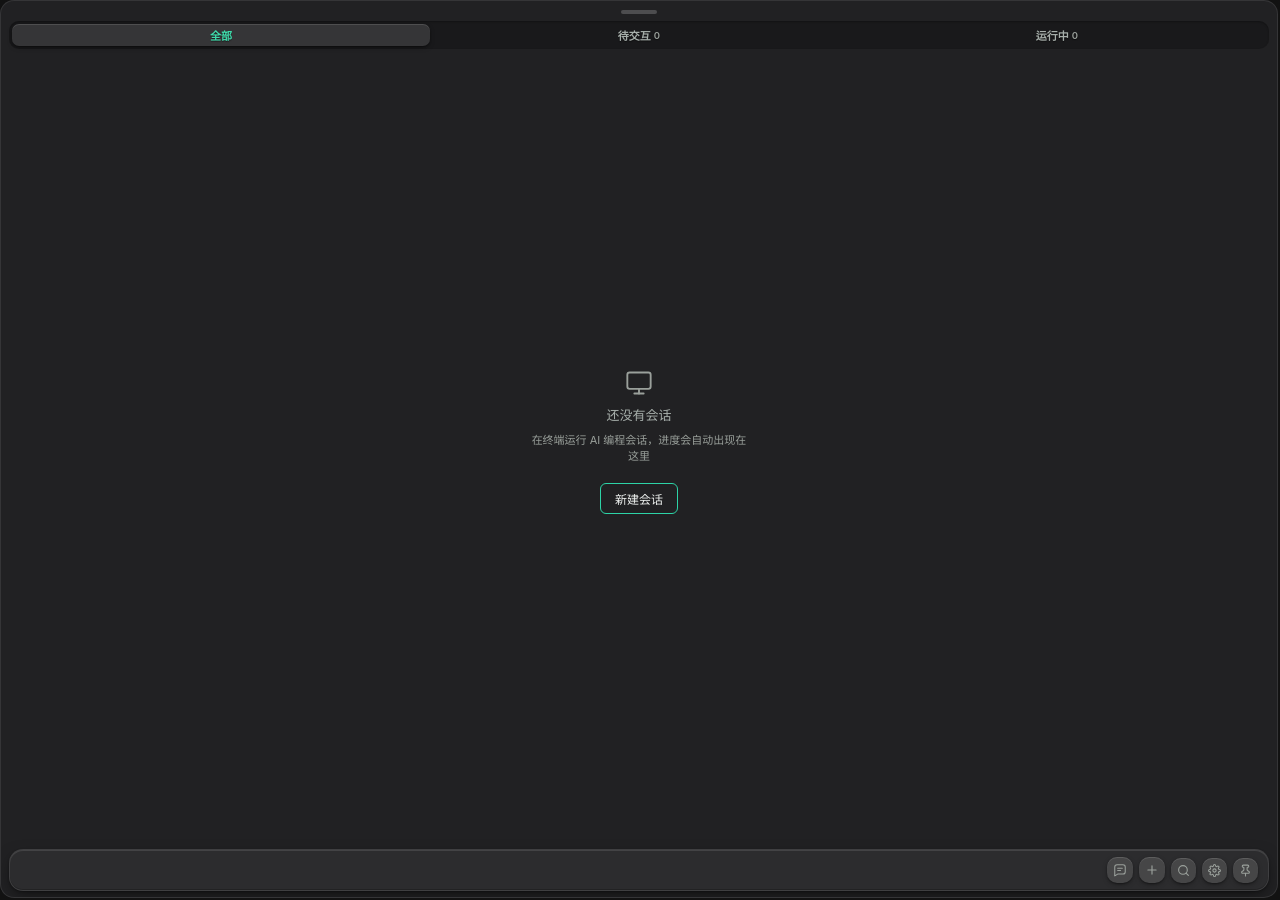
it: Sticker › 搜索有词且 0 结果：显示独立「无匹配」空态，不带「新建会话」CTA
The width and height of the screenshot is (1280, 900).
Click the button named "搜索会话". click: (1184, 870)
box: left=1171, top=858, right=1196, bottom=882
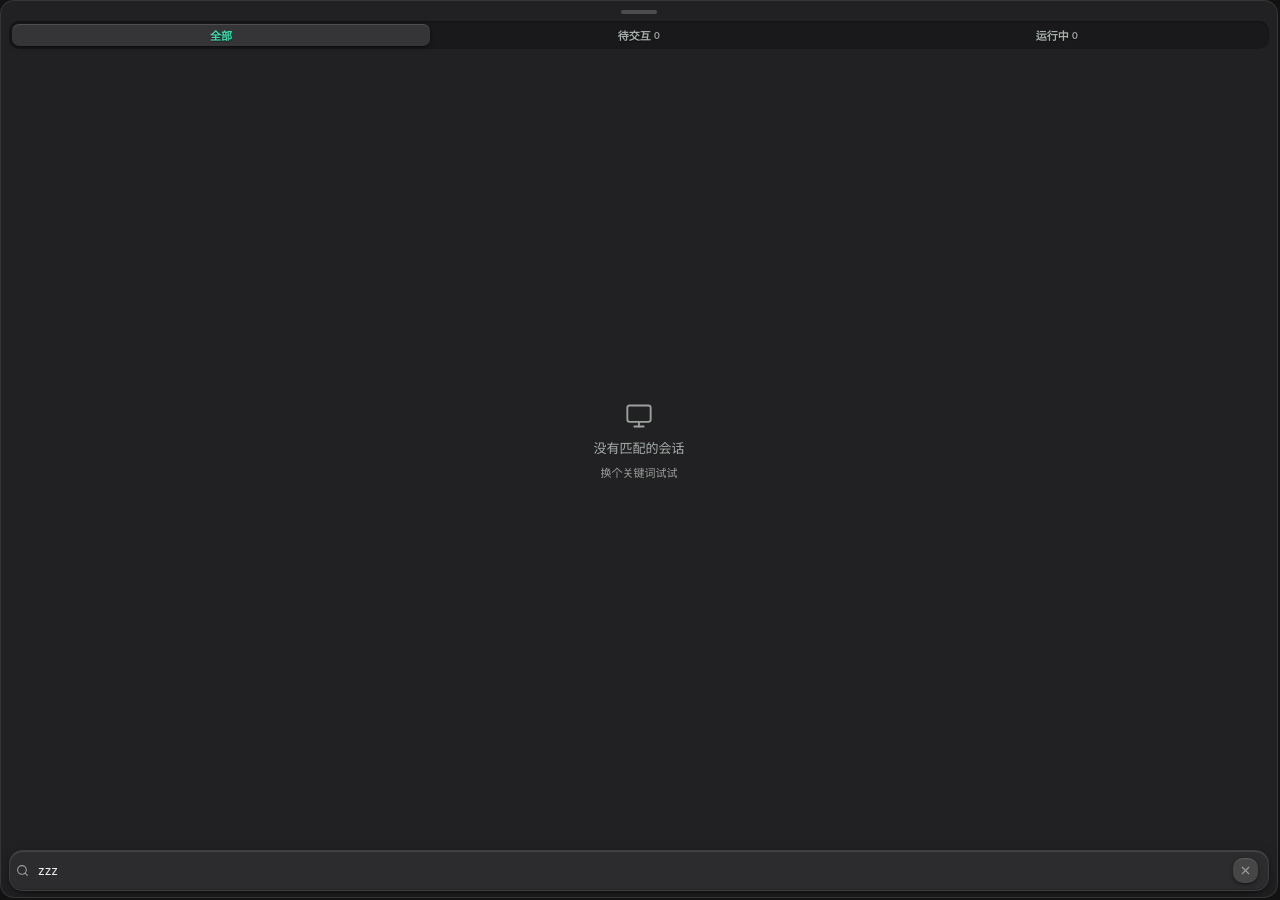
Result: the text "没有匹配的会话" is shown at left=594, top=438, right=684, bottom=457
Result: the text "换个关键词试试" is shown at left=600, top=465, right=678, bottom=481
Result: the button with test id "empty-new-cta" is gone
